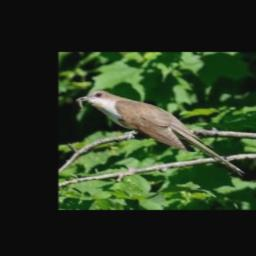Cuckoo: (77, 89, 245, 176)
